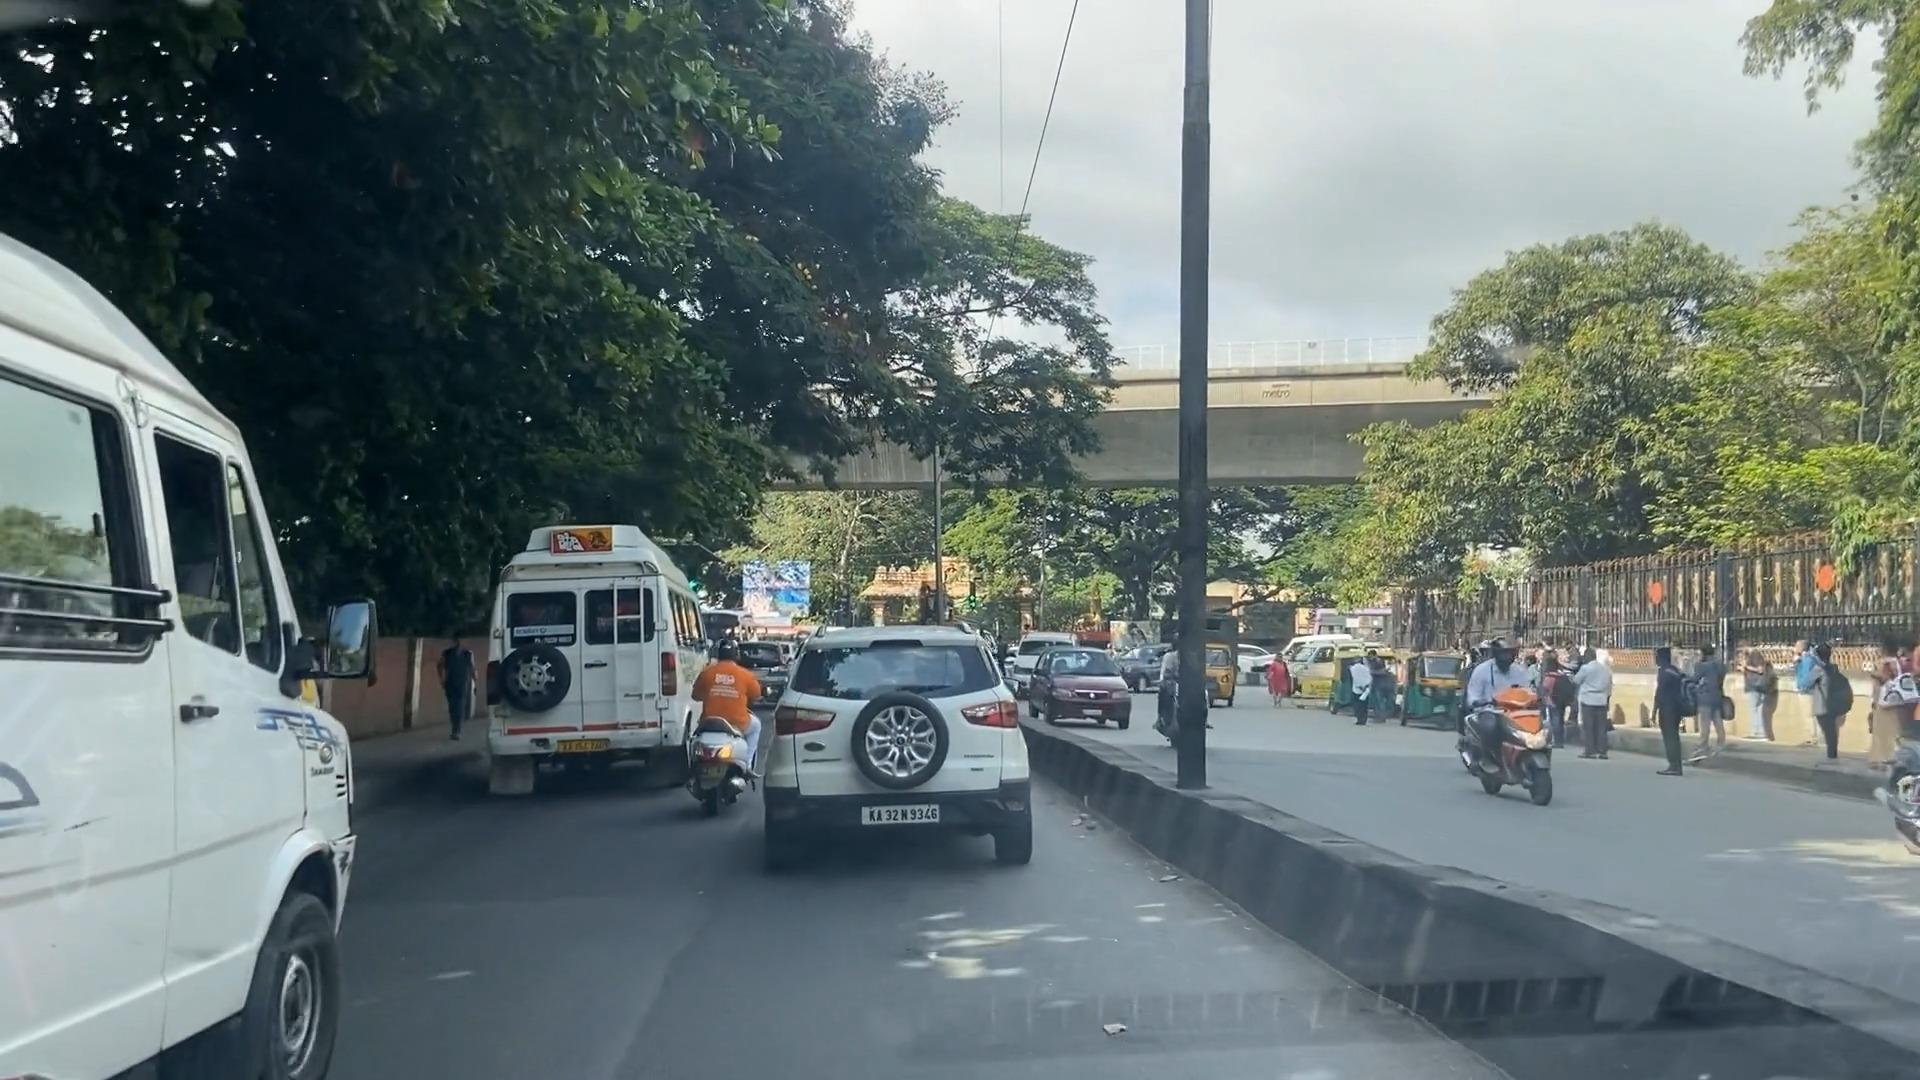HMV: (473, 505, 733, 800)
LMV: (753, 575, 1047, 890), (650, 576, 765, 870)
